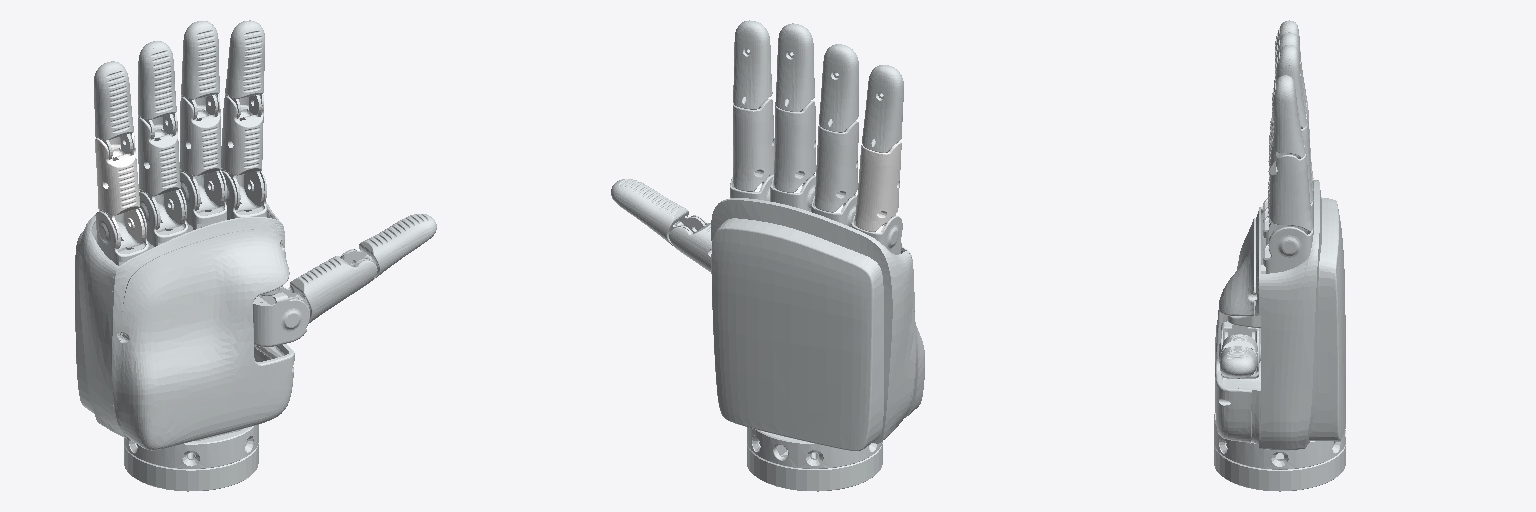
robot.urdf — right:
<?xml version="1.0" encoding="utf-8"?>
<!-- This URDF was automatically created by SolidWorks to URDF Exporter! Originally created by [author] ([email redacted]) 
     Commit Version: 1.6.0-4-g7f85cfe  Build Version: 1.6.7995.38578
     For more information, please see http://wiki.ros.org/sw_urdf_exporter -->
<robot
  name="right">
  <link
    name="base_link">
    <inertial>
      <origin
        xyz="-0.0094603 -0.088524 0.0020382"
        rpy="0 0 0" />
      <mass
        value="0.37668" />
      <inertia
        ixx="0.00026243"
        ixy="-4.7759E-06"
        ixz="-3.6528E-06"
        iyy="0.00031103"
        iyz="1.2051E-05"
        izz="0.00042537" />
    </inertial>
    <visual>
      <origin
        xyz="0 0 0"
        rpy="0 0 0" />
      <geometry>
        <mesh
          filename="package://lz_gripper_rviz/meshes/base_link.STL" />
      </geometry>
      <material
        name="">
        <color
          rgba="0.89804 0.92157 0.92941 1" />
      </material>
    </visual>
    <collision>
      <origin
        xyz="0 0 0"
        rpy="0 0 0" />
      <geometry>
        <mesh
          filename="package://lz_gripper_rviz/meshes/base_link.STL" />
      </geometry>
    </collision>
  </link>
  <link
    name="thumb_link1">
    <inertial>
      <origin
        xyz="-0.00017965 6.8304E-06 0.018159"
        rpy="0 0 0" />
      <mass
        value="0.0099033" />
      <inertia
        ixx="6.2516E-07"
        ixy="-5.4183E-09"
        ixz="6.2081E-08"
        iyy="1.0583E-06"
        iyz="3.9831E-09"
        izz="6.1988E-07" />
    </inertial>
    <visual>
      <origin
        xyz="0 0 0"
        rpy="0 0 0" />
      <geometry>
        <mesh
          filename="package://lz_gripper_rviz/meshes/thumb_link1.STL" />
      </geometry>
      <material
        name="">
        <color
          rgba="0.89804 0.92157 0.92941 1" />
      </material>
    </visual>
    <collision>
      <origin
        xyz="0 0 0"
        rpy="0 0 0" />
      <geometry>
        <mesh
          filename="package://lz_gripper_rviz/meshes/thumb_link1.STL" />
      </geometry>
    </collision>
  </link>
  <joint
    name="thumb_joint1"
    type="revolute">
    <origin
      xyz="0.023 -0.0245 -0.04835"
      rpy="3.1416 0 -3.1416" />
    <parent
      link="base_link" />
    <child
      link="thumb_link1" />
    <axis
      xyz="0 0 1" />
    <limit
      lower="0"
      upper="2.14"
      effort="100"
      velocity="1" />
  </joint>
  <link
    name="thumb_link2">
    <inertial>
      <origin
        xyz="-0.020501 0.0067015 -0.0064038"
        rpy="0 0 0" />
      <mass
        value="0.014226" />
      <inertia
        ixx="6.8248E-07"
        ixy="6.3443E-07"
        ixz="4.2546E-10"
        iyy="2.4065E-06"
        iyz="5.4467E-10"
        izz="2.8832E-06" />
    </inertial>
    <visual>
      <origin
        xyz="0 0 0"
        rpy="0 0 0" />
      <geometry>
        <mesh
          filename="package://lz_gripper_rviz/meshes/thumb_link2.STL" />
      </geometry>
      <material
        name="">
        <color
          rgba="0.89804 0.92157 0.92941 1" />
      </material>
    </visual>
    <collision>
      <origin
        xyz="0 0 0"
        rpy="0 0 0" />
      <geometry>
        <mesh
          filename="package://lz_gripper_rviz/meshes/thumb_link2.STL" />
      </geometry>
    </collision>
  </link>
  <joint
    name="thumb_joint2"
    type="revolute">
    <origin
      xyz="-0.0088613 0.0060912 0.01565"
      rpy="-1.5708 0 0.018038" />
    <parent
      link="thumb_link1" />
    <child
      link="thumb_link2" />
    <axis
      xyz="0 0 -1" />
    <limit
      lower="0"
      upper="0.35"
      effort="100"
      velocity="1" />
  </joint>
  <link
    name="thumb_link3">
    <inertial>
      <origin
        xyz="-0.0196680927954652 -0.0005819719341843 0.00789994316554879"
        rpy="0 0 0" />
      <mass
        value="0.00784968038272673" />
      <inertia
        ixx="2.81075874673003E-07"
        ixy="1.75602810939405E-08"
        ixz="-8.67190758135838E-12"
        iyy="1.53707272171153E-06"
        iyz="8.14073757746129E-13"
        izz="1.36361714001957E-06" />
    </inertial>
    <visual>
      <origin
        xyz="0 0 0"
        rpy="0 0 0" />
      <geometry>
        <mesh
          filename="package://lz_gripper_rviz/meshes/thumb_link3.STL" />
      </geometry>
      <material
        name="">
        <color
          rgba="0.898039215686275 0.92156862745098 0.929411764705882 1" />
      </material>
    </visual>
    <collision>
      <origin
        xyz="0 0 0"
        rpy="0 0 0" />
      <geometry>
        <mesh
          filename="package://lz_gripper_rviz/meshes/thumb_link3.STL" />
      </geometry>
    </collision>
  </link>
  <joint
    name="thumb_joint3"
    type="revolute">
    <origin
      xyz="-0.042286 0.015391 -0.01415"
      rpy="0 0 -0.34907" />
    <parent
      link="thumb_link2" />
    <child
      link="thumb_link3" />
    <axis
      xyz="0 0 -1" />
    <limit
      lower="0"
      upper="1.57"
      effort="100"
      velocity="1" />
  </joint>
  <link
    name="index_link1">
    <inertial>
      <origin
        xyz="-0.0215644823473152 0.000393824084923317 -0.00874621135392779"
        rpy="0 0 0" />
      <mass
        value="0.0142262329639115" />
      <inertia
        ixx="4.74796817289846E-07"
        ixy="3.63252054246068E-08"
        ixz="-2.22673309099261E-10"
        iyy="2.61422515976766E-06"
        iyz="6.54075662009712E-10"
        izz="2.88324671047069E-06" />
    </inertial>
    <visual>
      <origin
        xyz="0 0 0"
        rpy="0 0 0" />
      <geometry>
        <mesh
          filename="package://lz_gripper_rviz/meshes/index_link1.STL" />
      </geometry>
      <material
        name="">
        <color
          rgba="0.898039215686275 0.92156862745098 0.929411764705882 1" />
      </material>
    </visual>
    <collision>
      <origin
        xyz="0 0 0"
        rpy="0 0 0" />
      <geometry>
        <mesh
          filename="package://lz_gripper_rviz/meshes/index_link1.STL" />
      </geometry>
    </collision>
  </link>
  <joint
    name="index_joint1"
    type="revolute">
    <origin
      xyz="0.031418 0 -0.0053197"
      rpy="3.1416 1.5359 3.1416" />
    <parent
      link="base_link" />
    <child
      link="index_link1" />
    <axis
      xyz="0 0 1" />
    <limit
      lower="0"
      upper="1.57"
      effort="100"
      velocity="1" />
  </joint>
  <link
    name="index_link2">
    <inertial>
      <origin
        xyz="-0.019676 -6.2395E-05 -0.0079"
        rpy="0 0 0" />
      <mass
        value="0.0078496" />
      <inertia
        ixx="2.8357E-07"
        ixy="-5.8625E-08"
        ixz="5.9491E-12"
        iyy="1.5346E-06"
        iyz="6.753E-14"
        izz="1.3636E-06" />
    </inertial>
    <visual>
      <origin
        xyz="0 0 0"
        rpy="0 0 0" />
      <geometry>
        <mesh
          filename="package://lz_gripper_rviz/meshes/index_link2.STL" />
      </geometry>
      <material
        name="">
        <color
          rgba="0.89804 0.92157 0.92941 1" />
      </material>
    </visual>
    <collision>
      <origin
        xyz="0 0 0"
        rpy="0 0 0" />
      <geometry>
        <mesh
          filename="package://lz_gripper_rviz/meshes/index_link2.STL" />
      </geometry>
    </collision>
  </link>
  <joint
    name="index_joint2"
    type="revolute">
    <origin
      xyz="-0.044995 -0.00066876 -0.001"
      rpy="0 0 0" />
    <parent
      link="index_link1" />
    <child
      link="index_link2" />
    <axis
      xyz="0 0 1" />
    <limit
      lower="0"
      upper="1.57"
      effort="100"
      velocity="1" />
  </joint>
  <link
    name="middle_link1">
    <inertial>
      <origin
        xyz="-0.0215562506031045 0.000714276767812562 -0.00874619886653837"
        rpy="0 0 0" />
      <mass
        value="0.0142262397904175" />
      <inertia
        ixx="4.76348437272591E-07"
        ixy="6.81026341965301E-08"
        ixz="-2.11739551609207E-10"
        iyy="2.61267178108045E-06"
        iyz="6.56674816237693E-10"
        izz="2.88324556739897E-06" />
    </inertial>
    <visual>
      <origin
        xyz="0 0 0"
        rpy="0 0 0" />
      <geometry>
        <mesh
          filename="package://lz_gripper_rviz/meshes/middle_link1.STL" />
      </geometry>
      <material
        name="">
        <color
          rgba="0.898039215686275 0.92156862745098 0.929411764705882 1" />
      </material>
    </visual>
    <collision>
      <origin
        xyz="0 0 0"
        rpy="0 0 0" />
      <geometry>
        <mesh
          filename="package://lz_gripper_rviz/meshes/middle_link1.STL" />
      </geometry>
    </collision>
  </link>
  <joint
    name="middle_joint1"
    type="revolute">
    <origin
      xyz="0.0089 0 0"
      rpy="0 1.5708 0" />
    <parent
      link="base_link" />
    <child
      link="middle_link1" />
    <axis
      xyz="0 0 1" />
    <limit
      lower="0"
      upper="1.57"
      effort="100"
      velocity="1" />
  </joint>
  <link
    name="middle_link2">
    <inertial>
      <origin
        xyz="-0.0196680995356125 0.000581962591357868 -0.00789993606542237"
        rpy="0 0 0" />
      <mass
        value="0.00784967565480307" />
      <inertia
        ixx="2.81075990649539E-07"
        ixy="-1.75598147871464E-08"
        ixz="9.1619521816691E-12"
        iyy="1.53707336727064E-06"
        iyz="9.30781747045291E-13"
        izz="1.36361817821565E-06" />
    </inertial>
    <visual>
      <origin
        xyz="0 0 0"
        rpy="0 0 0" />
      <geometry>
        <mesh
          filename="package://lz_gripper_rviz/meshes/middle_link2.STL" />
      </geometry>
      <material
        name="">
        <color
          rgba="0.898039215686275 0.92156862745098 0.929411764705882 1" />
      </material>
    </visual>
    <collision>
      <origin
        xyz="0 0 0"
        rpy="0 0 0" />
      <geometry>
        <mesh
          filename="package://lz_gripper_rviz/meshes/middle_link2.STL" />
      </geometry>
    </collision>
  </link>
  <joint
    name="middle_joint2"
    type="revolute">
    <origin
      xyz="-0.045 0 -0.001"
      rpy="0 0 1.5708" />
    <parent
      link="middle_link1" />
    <child
      link="middle_link2" />
    <axis
      xyz="0 0 1" />
    <limit
      lower="0"
      upper="1.57"
      effort="100"
      velocity="1" />
  </joint>
  <link
    name="ring_link1">
    <inertial>
      <origin
        xyz="-0.0215562631632659 0.00071427737556939 -0.00874620018386888"
        rpy="0 0 0" />
      <mass
        value="0.0142262435769468" />
      <inertia
        ixx="4.76349000995179E-07"
        ixy="6.81020931307809E-08"
        ixz="-2.12503697751352E-10"
        iyy="2.61267824583491E-06"
        iyz="6.56558908193673E-10"
        izz="2.88325223980858E-06" />
    </inertial>
    <visual>
      <origin
        xyz="0 0 0"
        rpy="0 0 0" />
      <geometry>
        <mesh
          filename="package://lz_gripper_rviz/meshes/ring_link1.STL" />
      </geometry>
      <material
        name="">
        <color
          rgba="0.898039215686275 0.92156862745098 0.929411764705882 1" />
      </material>
    </visual>
    <collision>
      <origin
        xyz="0 0 0"
        rpy="0 0 0" />
      <geometry>
        <mesh
          filename="package://lz_gripper_rviz/meshes/ring_link1.STL" />
      </geometry>
    </collision>
  </link>
  <joint
    name="ring_joint1"
    type="revolute">
    <origin
      xyz="-0.013629 0 -0.0046985"
      rpy="0 1.5359 0" />
    <parent
      link="base_link" />
    <child
      link="ring_link1" />
    <axis
      xyz="0 0 1" />
    <limit
      lower="0"
      upper="1.57"
      effort="100"
      velocity="1" />
  </joint>
  <link
    name="ring_link2">
    <inertial>
      <origin
        xyz="-0.0196679867849359 0.000581976188691607 -0.00789991025971003"
        rpy="0 0 0" />
      <mass
        value="0.00784962520464454" />
      <inertia
        ixx="2.81074318951396E-07"
        ixy="-1.7555732490274E-08"
        ixz="1.27085169733249E-11"
        iyy="1.5370525534456E-06"
        iyz="2.09501544213668E-12"
        izz="1.36359734443304E-06" />
    </inertial>
    <visual>
      <origin
        xyz="0 0 0"
        rpy="0 0 0" />
      <geometry>
        <mesh
          filename="package://lz_gripper_rviz/meshes/ring_link2.STL" />
      </geometry>
      <material
        name="">
        <color
          rgba="0.898039215686275 0.92156862745098 0.929411764705882 1" />
      </material>
    </visual>
    <collision>
      <origin
        xyz="0 0 0"
        rpy="0 0 0" />
      <geometry>
        <mesh
          filename="package://lz_gripper_rviz/meshes/ring_link2.STL" />
      </geometry>
    </collision>
  </link>
  <joint
    name="ring_joint2"
    type="revolute">
    <origin
      xyz="-0.045 0 -0.001"
      rpy="0 0 0" />
    <parent
      link="ring_link1" />
    <child
      link="ring_link2" />
    <axis
      xyz="0 0 1" />
    <limit
      lower="0"
      upper="1.57"
      effort="100"
      velocity="1" />
  </joint>
  <link
    name="little_link1">
    <inertial>
      <origin
        xyz="0 0 0"
        rpy="0 0 0" />
      <mass
        value="0" />
      <inertia
        ixx="0"
        ixy="0"
        ixz="0"
        iyy="0"
        iyz="0"
        izz="0" />
    </inertial>
    <visual>
      <origin
        xyz="0 0 0"
        rpy="0 0 0" />
      <geometry>
        <mesh
          filename="package://lz_gripper_rviz/meshes/little_link1.STL" />
      </geometry>
      <material
        name="">
        <color
          rgba="1 1 1 1" />
      </material>
    </visual>
    <collision>
      <origin
        xyz="0 0 0"
        rpy="0 0 0" />
      <geometry>
        <mesh
          filename="package://lz_gripper_rviz/meshes/little_link1.STL" />
      </geometry>
    </collision>
  </link>
  <joint
    name="little_joint1"
    type="revolute">
    <origin
      xyz="-0.036007 0 -0.0094157"
      rpy="0 1.501 0" />
    <parent
      link="base_link" />
    <child
      link="little_link1" />
    <axis
      xyz="0 0 1" />
    <limit
      lower="0"
      upper="1.57"
      effort="100"
      velocity="1" />
  </joint>
  <link
    name="little_link2">
    <inertial>
      <origin
        xyz="-0.0196680071986052 0.000581972212251745 -0.00789991313401341"
        rpy="0 0 0" />
      <mass
        value="0.00784963356765954" />
      <inertia
        ixx="2.81074629444425E-07"
        ixy="-1.75567896523501E-08"
        ixz="1.20217775074536E-11"
        iyy="1.53705622021842E-06"
        iyz="1.91083841216387E-12"
        izz="1.36360123319282E-06" />
    </inertial>
    <visual>
      <origin
        xyz="0 0 0"
        rpy="0 0 0" />
      <geometry>
        <mesh
          filename="package://lz_gripper_rviz/meshes/little_link2.STL" />
      </geometry>
      <material
        name="">
        <color
          rgba="0.898039215686275 0.92156862745098 0.929411764705882 1" />
      </material>
    </visual>
    <collision>
      <origin
        xyz="0 0 0"
        rpy="0 0 0" />
      <geometry>
        <mesh
          filename="package://lz_gripper_rviz/meshes/little_link2.STL" />
      </geometry>
    </collision>
  </link>
  <joint
    name="little_joint2"
    type="revolute">
    <origin
      xyz="-0.045 0 -0.001"
      rpy="0 0 0" />
    <parent
      link="little_link1" />
    <child
      link="little_link2" />
    <axis
      xyz="0 0 1" />
    <limit
      lower="0"
      upper="1.57"
      effort="100"
      velocity="1" />
  </joint>
</robot>

--- Render facts (derived) ---
Views: 3 orthographic renders of the robot side by side, from view 1: azimuth 30°, elevation 25°; view 2: azimuth 150°, elevation 25°; view 3: azimuth 270°, elevation 25°.
Model right with 12 links and 11 joints (11 revolute), rooted at base_link, posed all joints at 0.
Visible links, largest first — view 1: base_link, index_link1, middle_link1, ring_link1, little_link1, thumb_link2, middle_link2, ring_link2, index_link2, little_link2, thumb_link3, thumb_link1; view 2: base_link, index_link1, middle_link1, ring_link1, little_link1, index_link2, ring_link2, middle_link2, little_link2, thumb_link3, thumb_link2; view 3: base_link, index_link1, index_link2, middle_link2, thumb_link3, thumb_link1.
Boxes of the visible links, box(x1,y1,x2,y2) form: base_link: box(75, 170, 294, 491); index_link1: box(221, 94, 264, 209); middle_link1: box(180, 94, 224, 210); ring_link1: box(138, 113, 184, 229); little_link1: box(95, 132, 144, 248); thumb_link2: box(261, 249, 377, 323); middle_link2: box(181, 21, 219, 119); ring_link2: box(138, 41, 176, 139); index_link2: box(225, 20, 264, 118); little_link2: box(94, 61, 133, 159); thumb_link3: box(342, 214, 436, 279); thumb_link1: box(253, 287, 309, 346); base_link: box(711, 175, 924, 491); index_link1: box(733, 99, 774, 191); middle_link1: box(774, 101, 816, 192); ring_link1: box(815, 121, 858, 212); little_link1: box(855, 142, 901, 231); index_link2: box(733, 20, 772, 109); ring_link2: box(819, 44, 858, 132); middle_link2: box(776, 23, 814, 111); little_link2: box(862, 65, 903, 152); thumb_link3: box(611, 179, 705, 245); thumb_link2: box(669, 215, 711, 271); base_link: box(1214, 180, 1345, 491); index_link1: box(1268, 154, 1312, 243); index_link2: box(1272, 75, 1305, 161); middle_link2: box(1275, 45, 1306, 127); thumb_link3: box(1219, 346, 1256, 378); thumb_link1: box(1219, 321, 1260, 378).
Bounding box of the posed robot: 0.1788 × 0.066 × 0.237 m (x, y, z).
Meshes: 12 distinct files referenced, 12 mesh visuals loaded (12 binary STL).